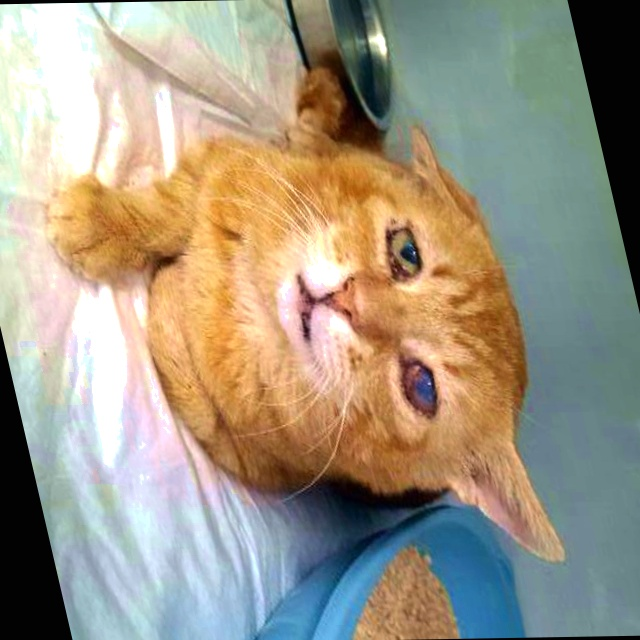eye_infection: (388, 357, 449, 417), (375, 223, 432, 285)
